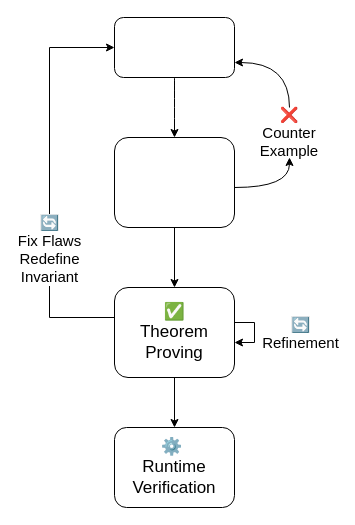
This 355x525 diagram has some shape labels left out. Each missing label, with the box of its shape:
📝 Specification: (114, 16, 234, 78)
🔍 Model Checking: (114, 136, 234, 228)
